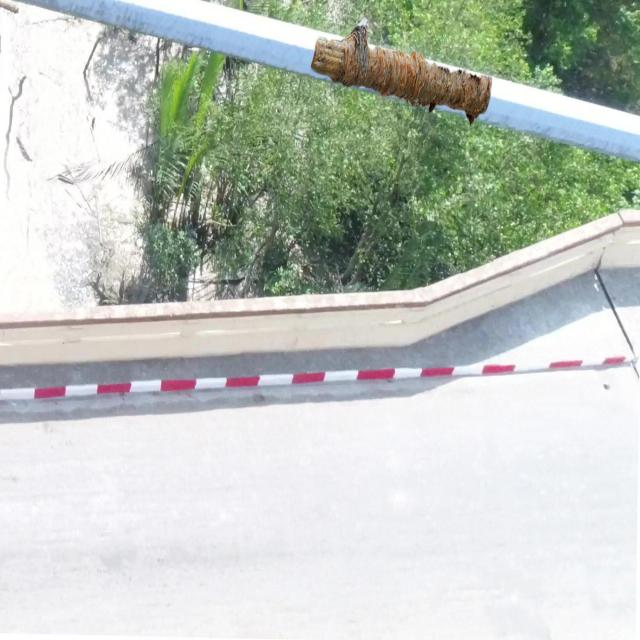corrosion: (310, 17, 493, 128)
